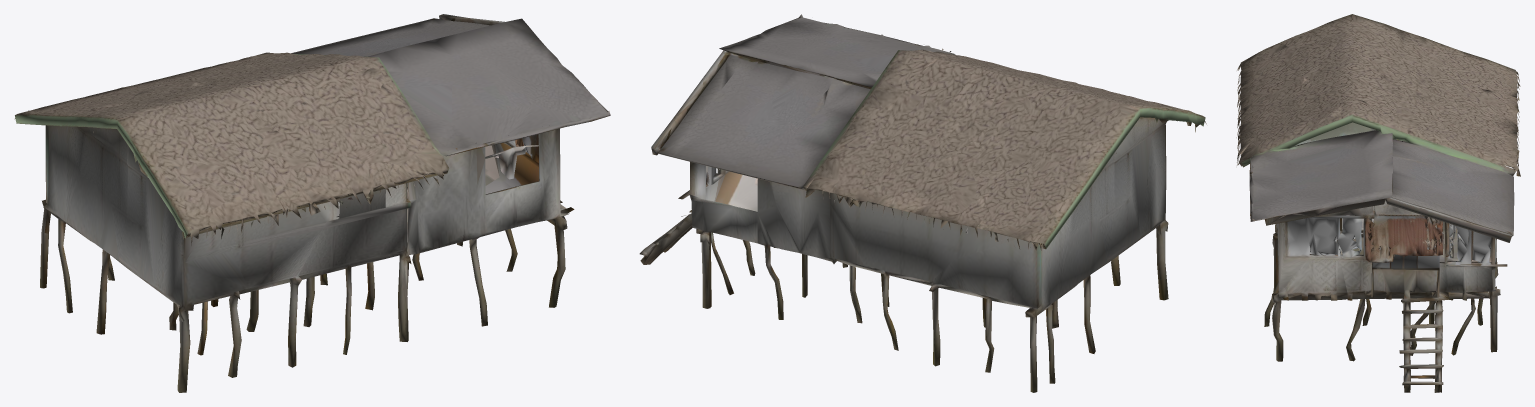
Rendered from finalizedbahaykubo1.fbx.
3 views of the same model, side by side, from view 1: azimuth 30°, elevation 25°; view 2: azimuth 150°, elevation 25°; view 3: azimuth 270°, elevation 25° (orthographic). The views are drawn at different scales.
Visible parts, largest first — view 1: tripo_node_50e68b27; view 2: tripo_node_50e68b27; view 3: tripo_node_50e68b27.
Part boxes in pixels (x1,y1,x2,y2): tripo_node_50e68b27: [14, 14, 610, 392]; tripo_node_50e68b27: [639, 14, 1206, 392]; tripo_node_50e68b27: [1236, 14, 1520, 392].
Size of the model in its own units: 1 by 0.4944 by 0.6431.
1 material, 1 textured.
